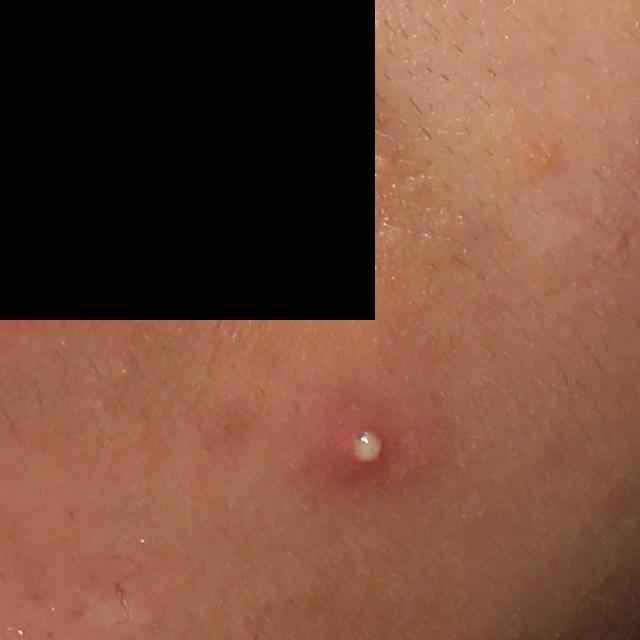hypertrophic_scar: (83, 587, 153, 634)
pustule: (335, 398, 398, 483)
